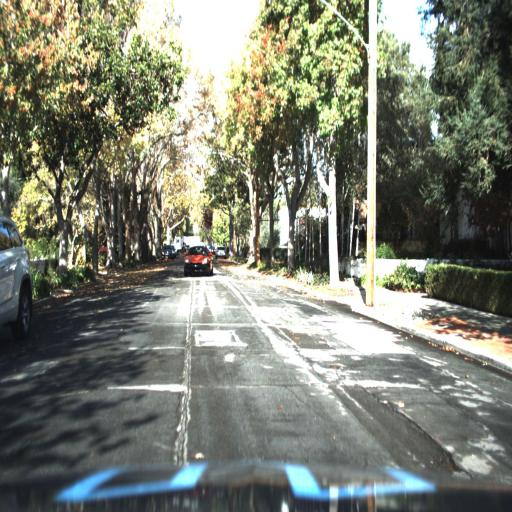car: (0, 211, 35, 348), (180, 239, 213, 276)
